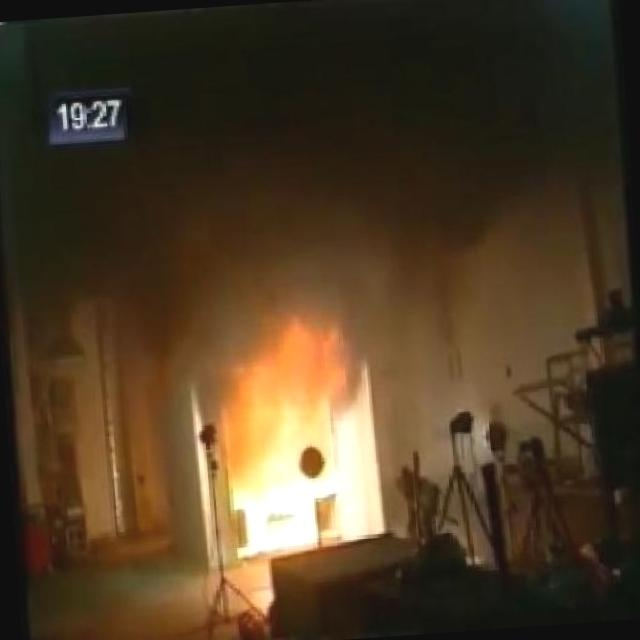fire: (161, 280, 368, 537)
smoke: (0, 0, 639, 369)
